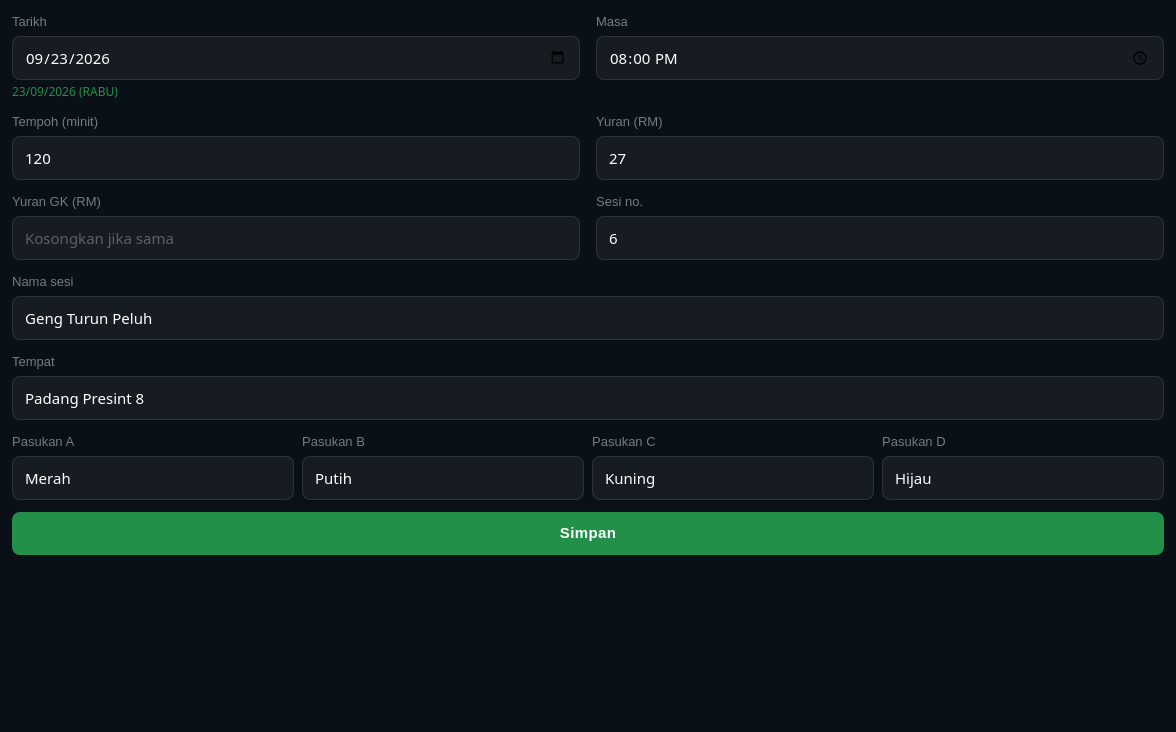
Test: SessionForm › refuses a blank title or venue
This screenshot has width=1176, height=732.
Clear the field labelled "Nama sesi": (588, 318) [12, 296, 1164, 340]
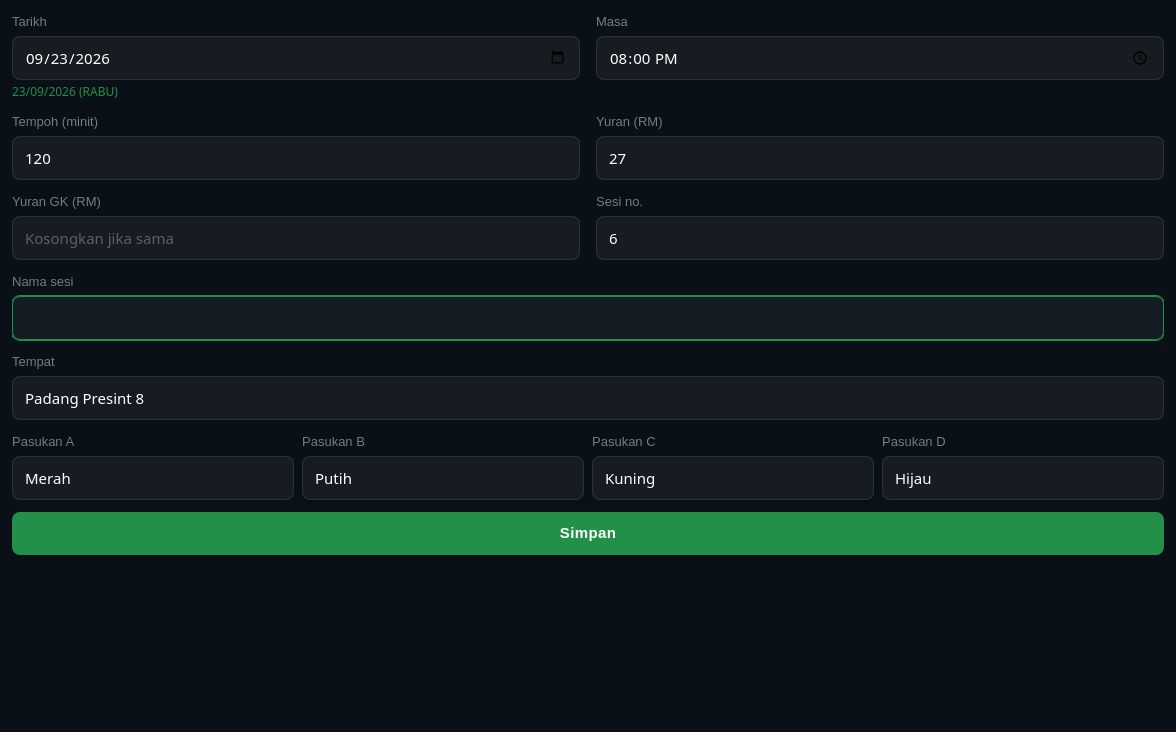
Click the button "Simpan": click(588, 533) [12, 512, 1164, 554]
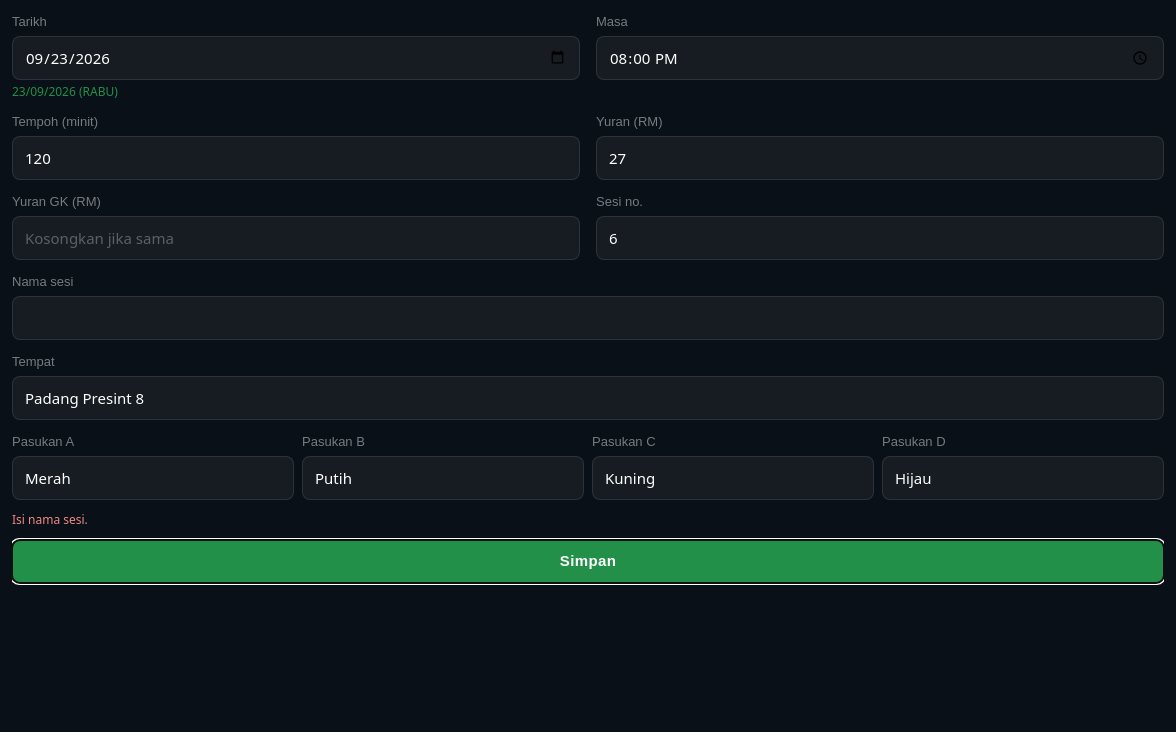
Expected: the text "Isi nama sesi." is shown, [12, 511, 88, 528]
